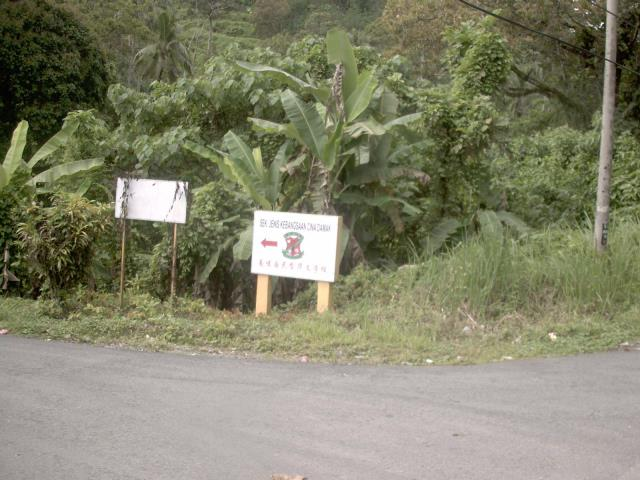ads_sign: (241, 201, 347, 289)
